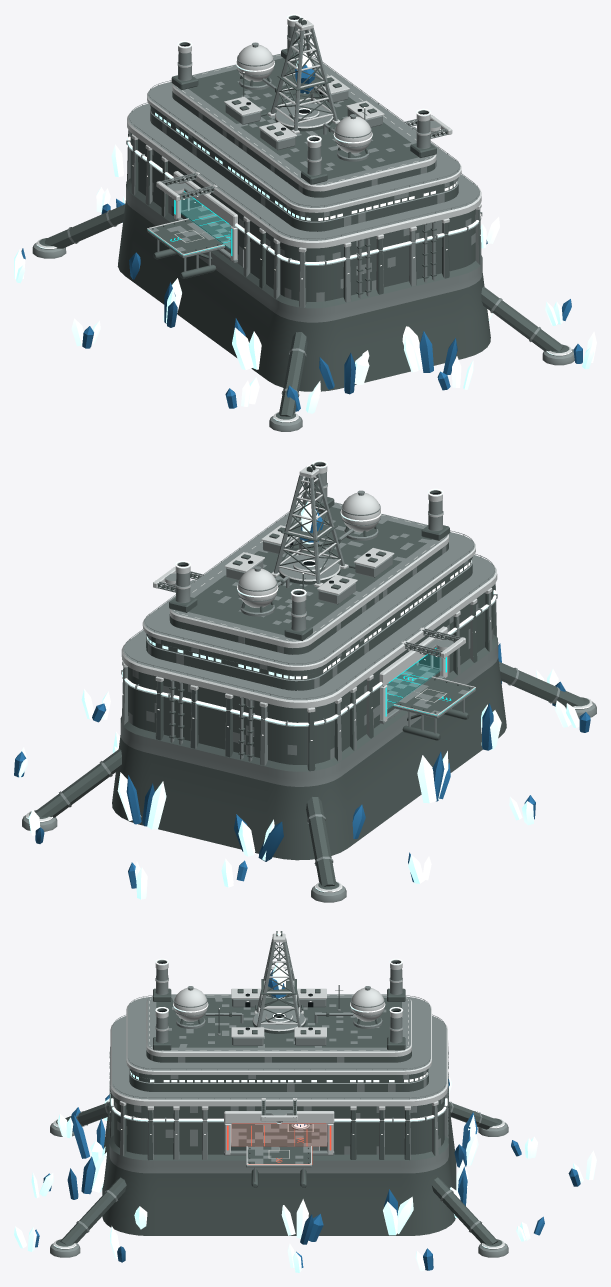
The model's file is mineradora.glb.
3 views of the same model, one above another, from view 1: azimuth 30°, elevation 25°; view 2: azimuth 150°, elevation 25°; view 3: azimuth 270°, elevation 25° (orthographic). The views are drawn at different scales.
Parts seen in each view (by area): view 1: mineradora_casco, mineradora_fundo, mineradora_conves, mineradora_he3, mineradora_campo; view 2: mineradora_casco, mineradora_fundo, mineradora_conves, mineradora_he3, mineradora_campo; view 3: mineradora_casco, mineradora_fundo, mineradora_conves, mineradora_he3, mineradora_campo.
Part boxes in pixels (x1,y1,x2,y2): mineradora_casco: (117, 53, 490, 391); mineradora_fundo: (14, 144, 596, 431); mineradora_conves: (171, 15, 436, 184); mineradora_he3: (127, 14, 481, 264); mineradora_campo: (180, 198, 230, 248); mineradora_casco: (112, 502, 506, 860); mineradora_fundo: (14, 643, 596, 902); mineradora_conves: (169, 461, 449, 640); mineradora_he3: (122, 460, 496, 725); mineradora_campo: (388, 655, 440, 707); mineradora_casco: (102, 994, 456, 1235); mineradora_fundo: (14, 1076, 596, 1272); mineradora_conves: (149, 931, 408, 1050); mineradora_he3: (110, 931, 447, 1127); mineradora_campo: (231, 1124, 326, 1146).
Bounding box in the file's own units: 312 × 210 × 408.
